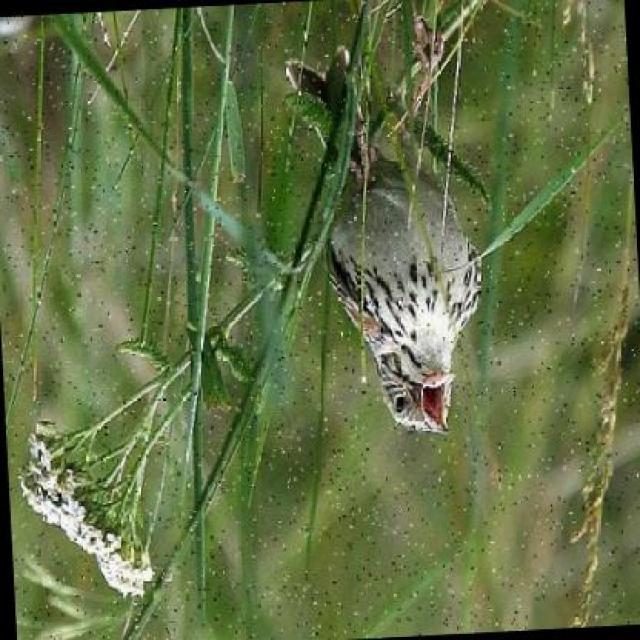Bird: (304, 121, 510, 447)
